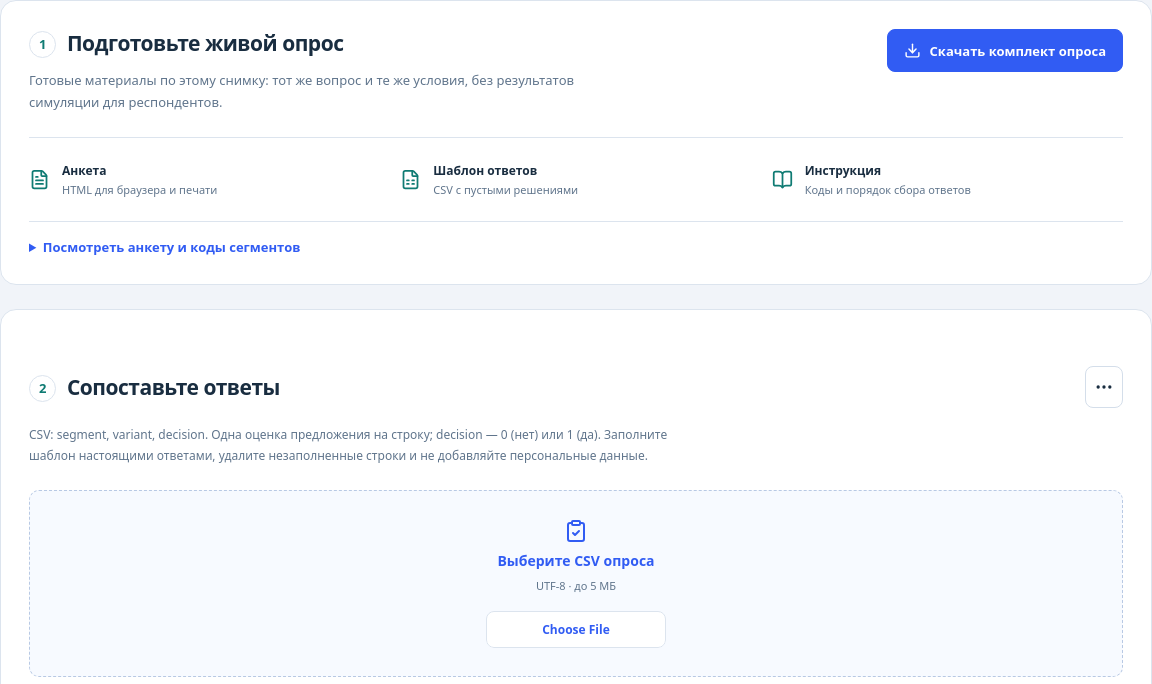
Test: shows download errors and allows a clean retry without altering survey state
Click the button "Скачать комплект опроса" at (1005, 50), box [887,29,1123,72]
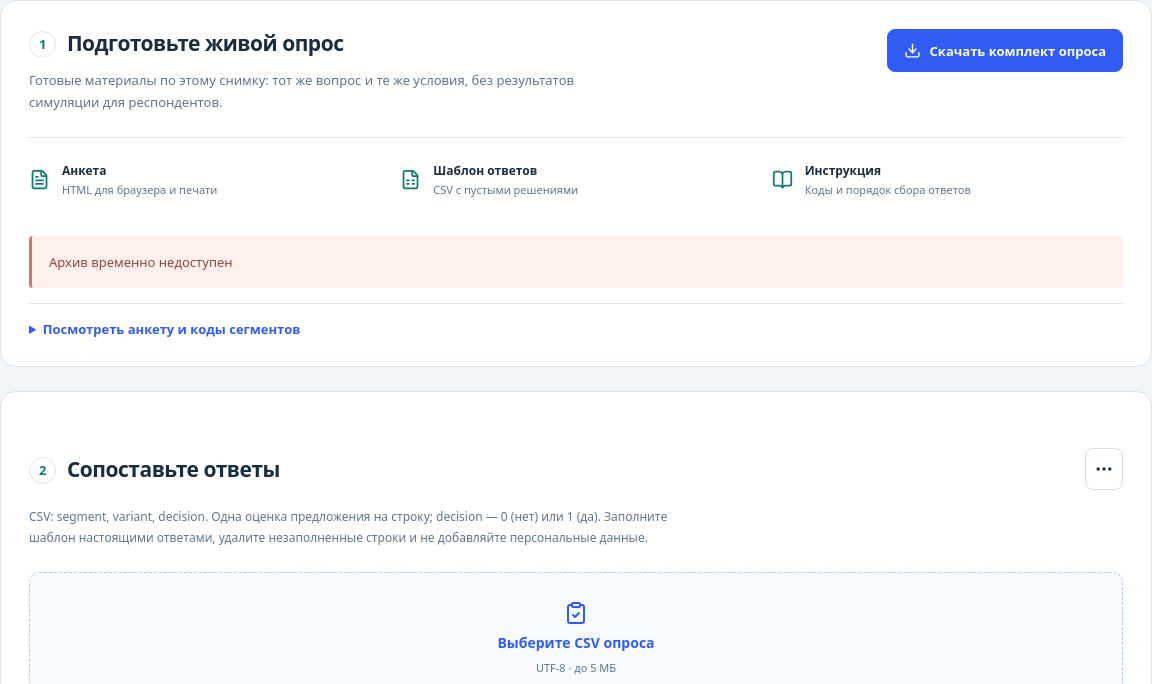
Check: the text "Архив временно недоступен" is shown, box [29,236,1123,288]
Click the button "Скачать комплект опроса" at (1005, 50), box [887,29,1123,72]
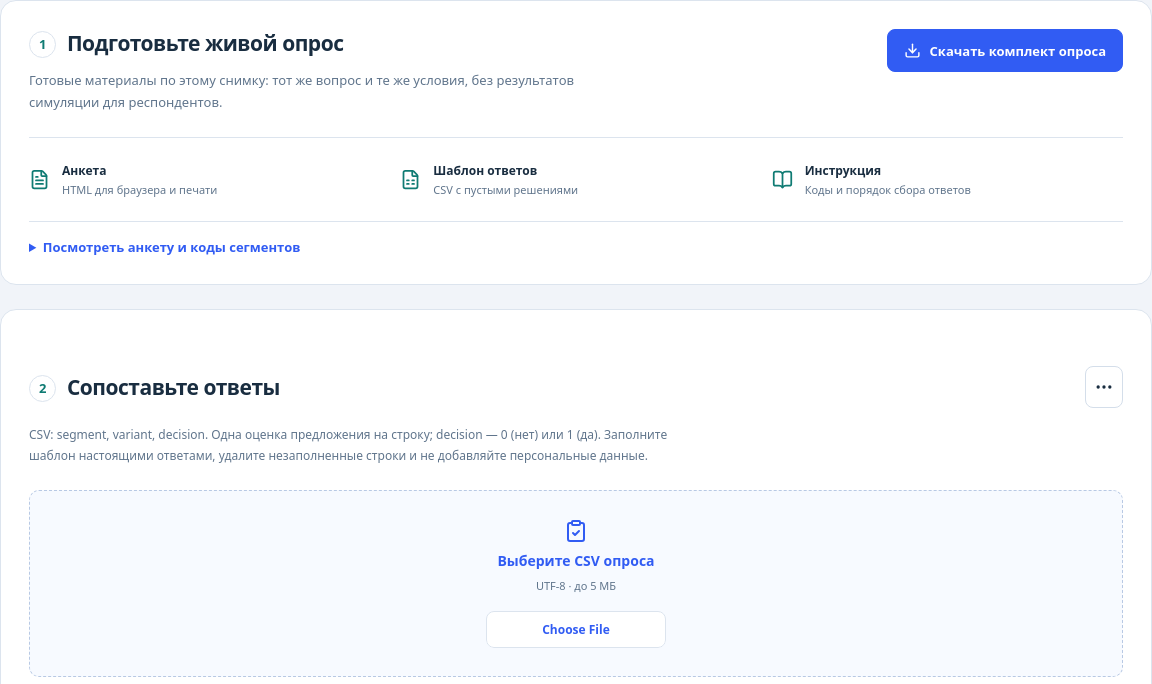
Check: the file field named "CSV живого опроса" is shown, box [486,601,666,648]
Check: the text "Архив временно недоступен" is gone
